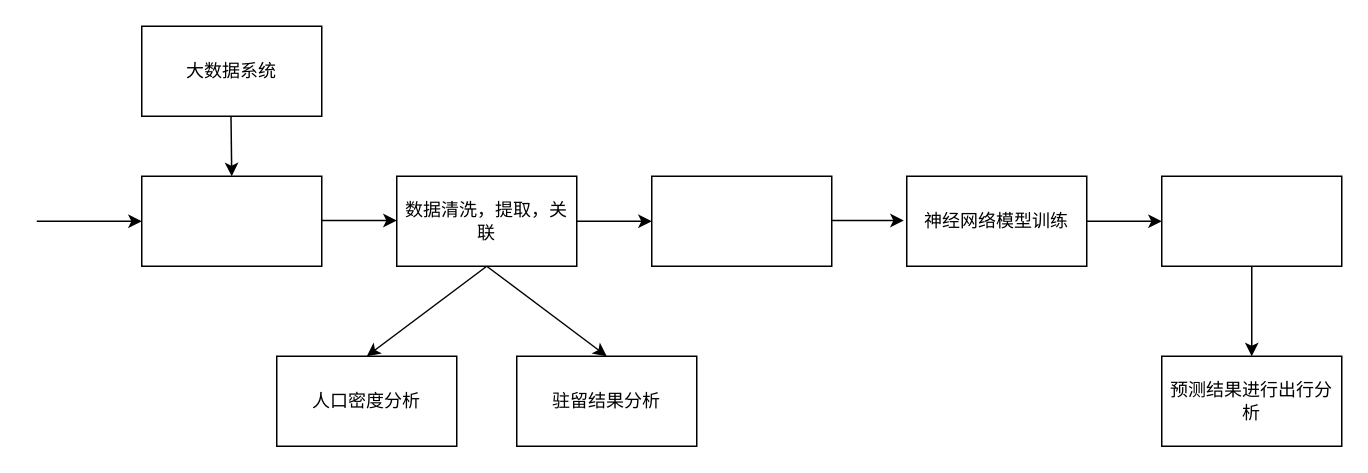
Image size: 1368x473. Some labels were removed from this diagram. The shapes that lost their labels are listed below. From the top down, each one's centre as x and y in pixels, then its label:
At [231,220]: "信令数据读取".
At [741,220]: "人工数据标注".
At [1251,220]: "训练好的模型进行出行预测".
